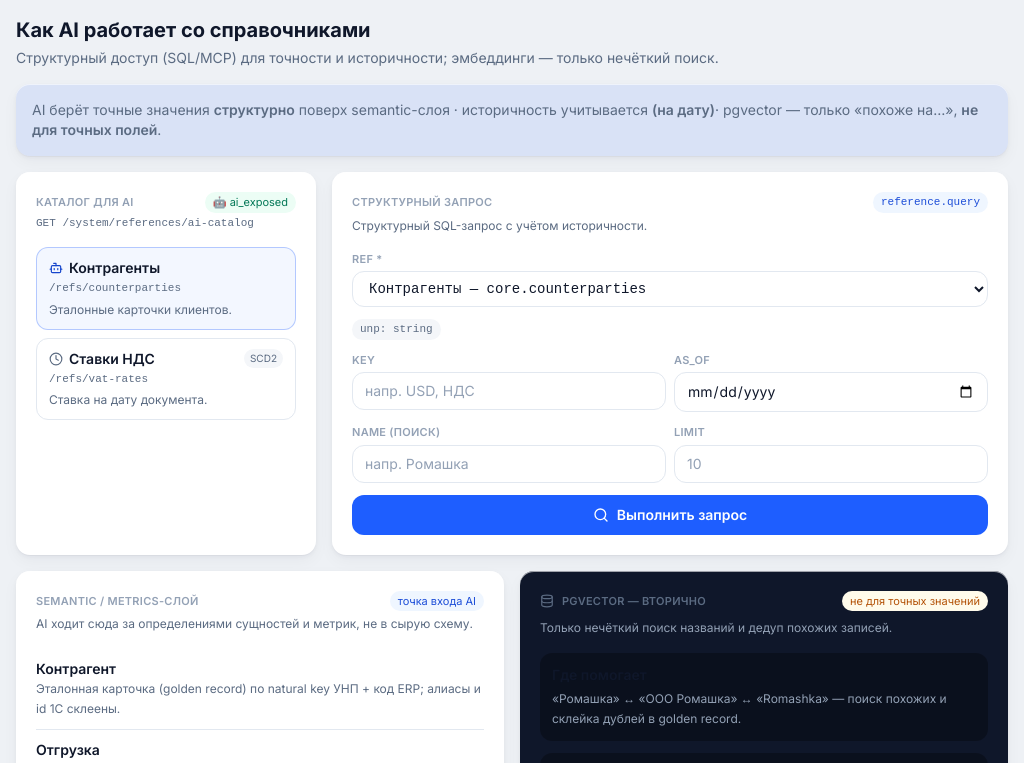
it: SpravAi › выбор версионного справочника открывает SCD2-ветку (метка as_of и колонки меняются)
Expected: the text "(SCD2)" is not shown
Expected: the text "unp: string" is shown, [352,319,441,340]
// клик по карточке версионного справочника
Click the button "Ставки НДС SCD2 /refs/vat-rates Ставка на дату документа." at (112, 358), box [36,338,296,420]
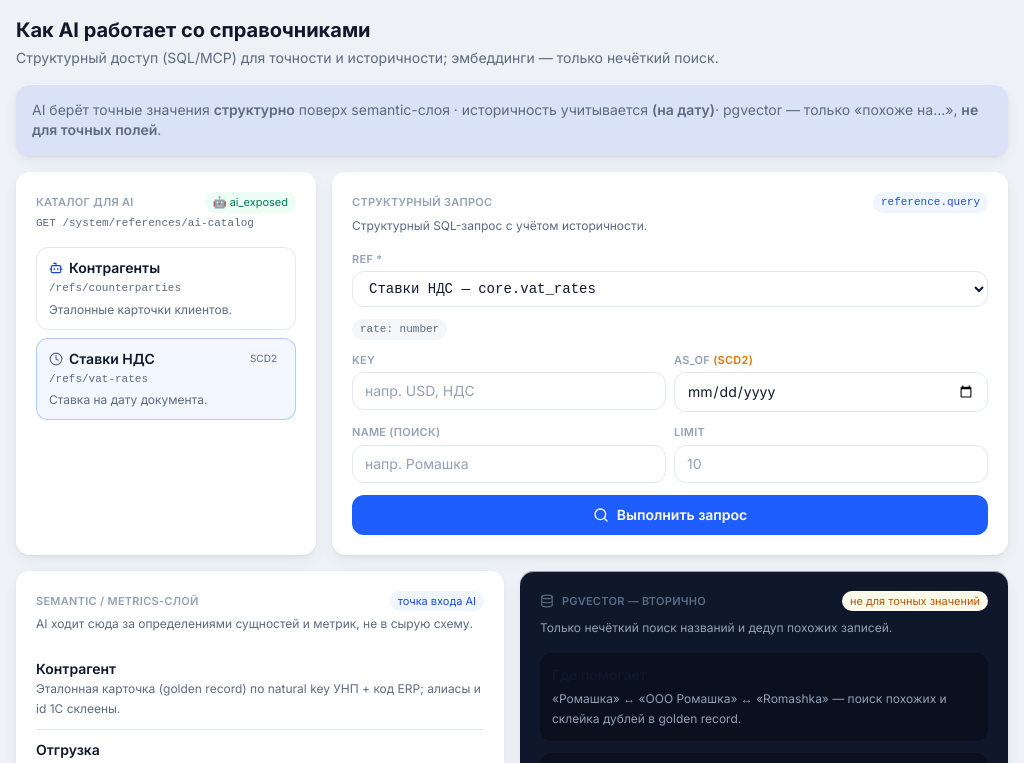
Now the text "(SCD2)" is shown, box [713,352,753,366]
Now the text "rate: number" is shown, box [352,319,447,340]
Now the text "unp: string" is gone
